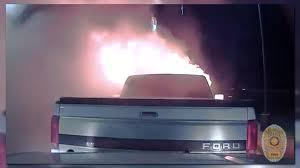fire: (92, 29, 215, 82)
